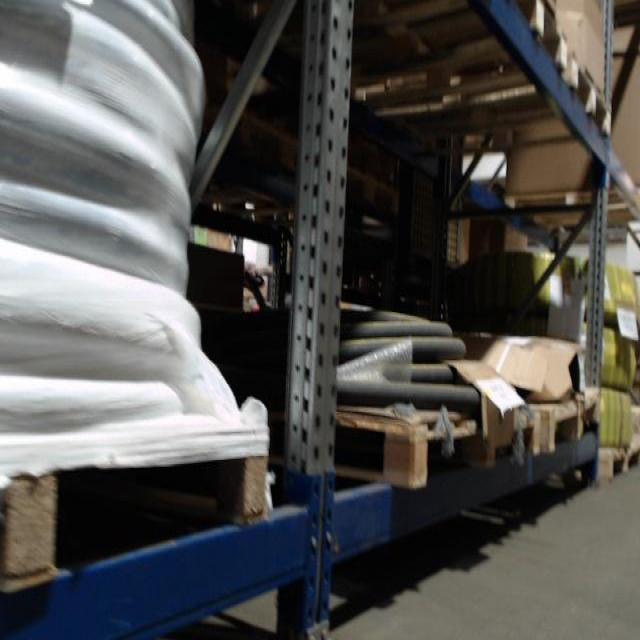pallet: (0, 428, 284, 604), (342, 51, 615, 146), (315, 390, 544, 496), (343, 1, 571, 86), (470, 183, 638, 237), (542, 383, 606, 458), (597, 436, 639, 487)
